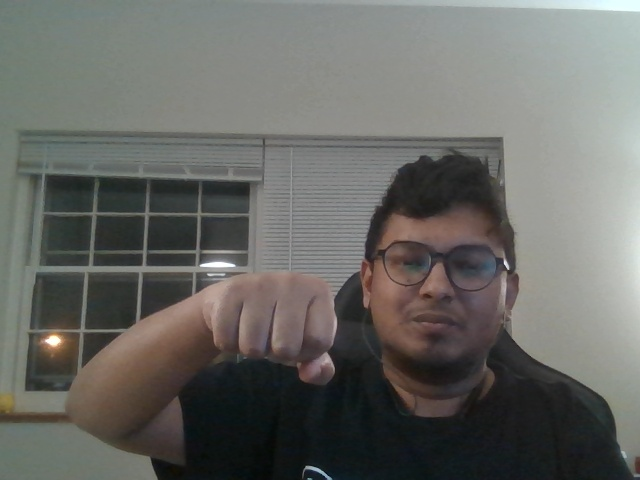yes: (166, 255, 355, 405)
